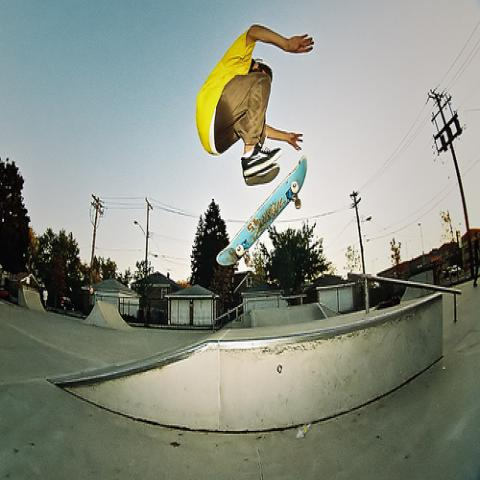car: (443, 266, 457, 278)
